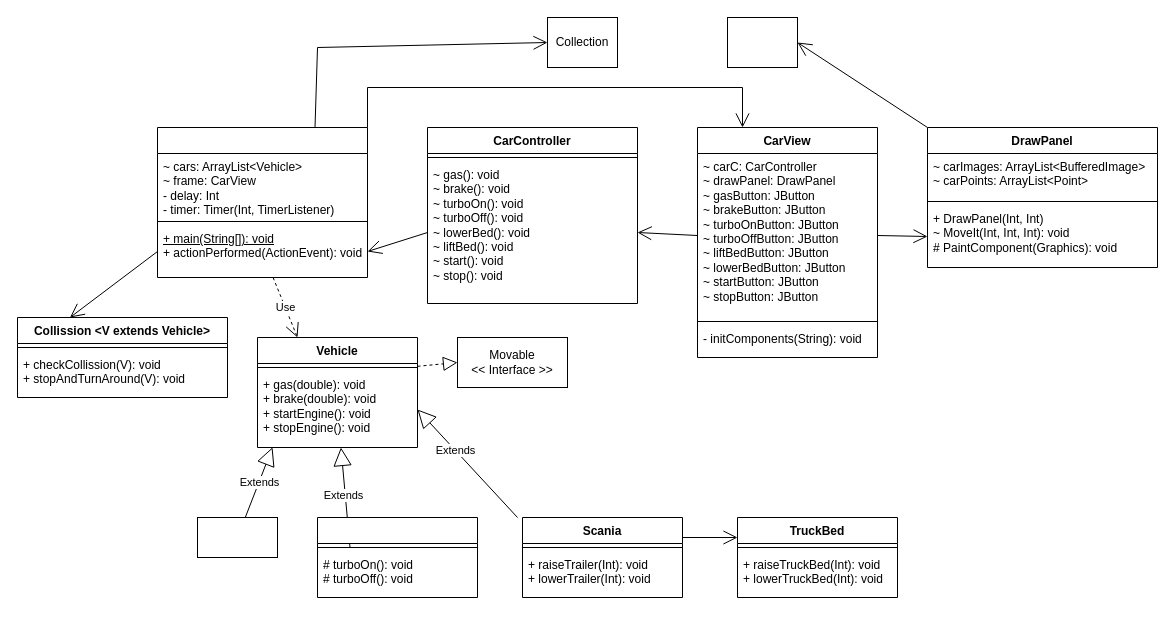
This 1175x618 diagram has some shape labels left out. Each missing label, with the box of its shape:
Application: (156, 126, 368, 278)
ArrayList: (726, 16, 798, 68)
Saab95: (316, 516, 478, 598)
Volvo240: (196, 516, 278, 558)
